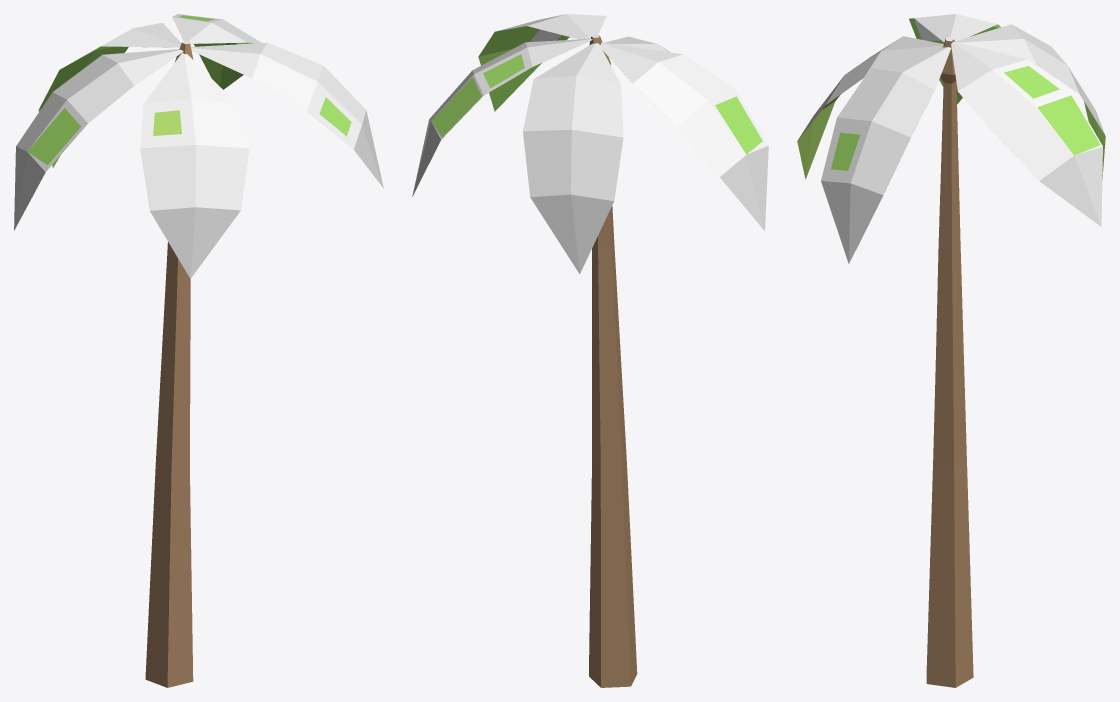
The model's file is Palm_Tree_s_Snow_BT_01.fbx.
3 views of the same model, side by side, from view 1: azimuth 30°, elevation 25°; view 2: azimuth 150°, elevation 25°; view 3: azimuth 270°, elevation 25° (orthographic). The views are drawn at different scales.
Visible parts, largest first — view 1: Palm_Tree_s_Snow_BT_01; view 2: Palm_Tree_s_Snow_BT_01; view 3: Palm_Tree_s_Snow_BT_01.
Part boxes in pixels (x1,y1,x2,y2): Palm_Tree_s_Snow_BT_01: [14, 14, 383, 687]; Palm_Tree_s_Snow_BT_01: [412, 14, 768, 687]; Palm_Tree_s_Snow_BT_01: [797, 14, 1105, 687].
Bounding box in the file's own units: 246 × 465 × 201.
